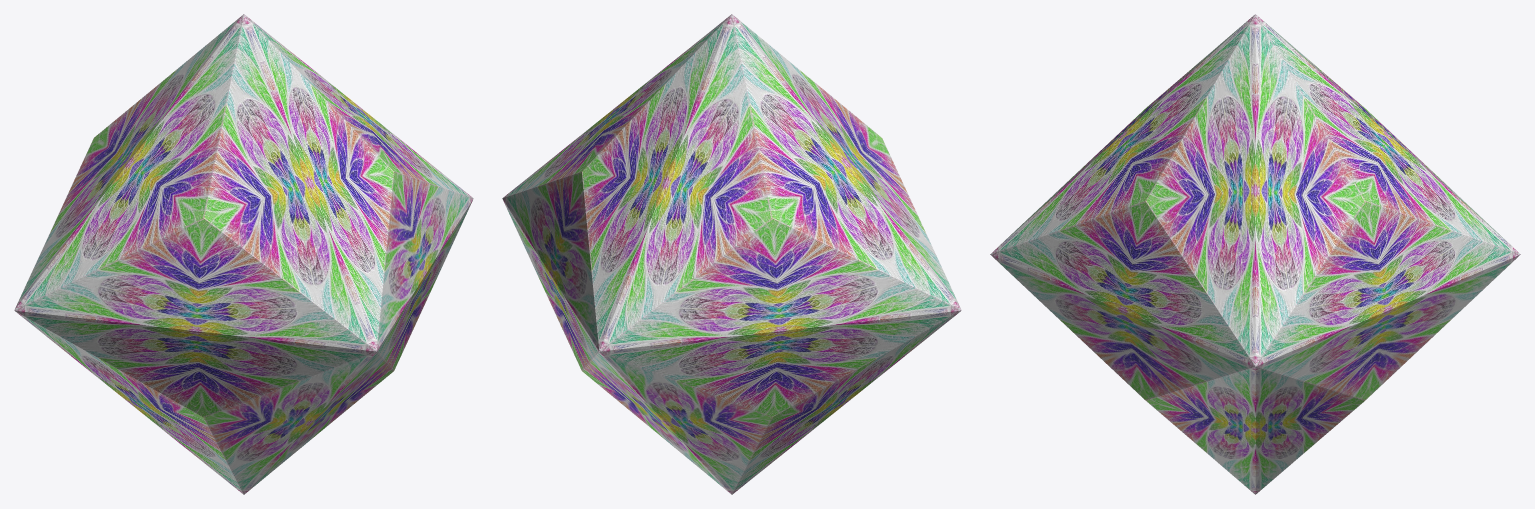
Rendered from TriakisOctahedron10.obj.
3 views of the same model, side by side, from view 1: azimuth 30°, elevation 25°; view 2: azimuth 150°, elevation 25°; view 3: azimuth 270°, elevation 25° (orthographic).
Size of the model in its own units: 4.83 by 4.83 by 4.83.
Materials: 1 (1 with a texture image).
